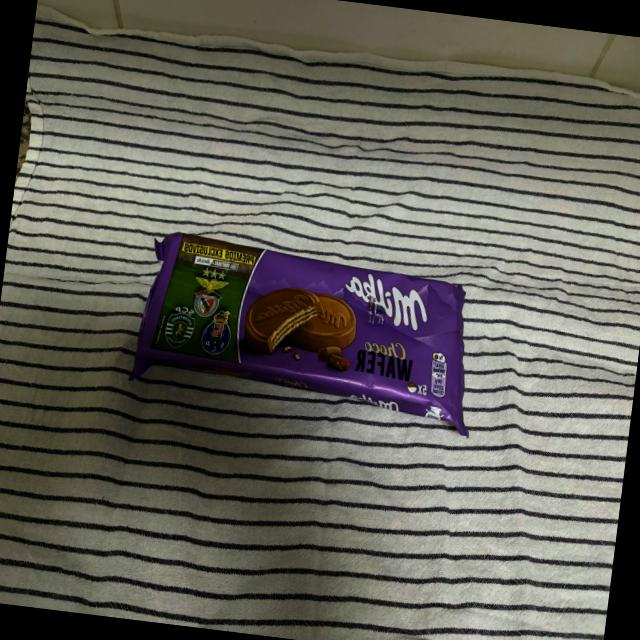good_package: (126, 228, 491, 437)
